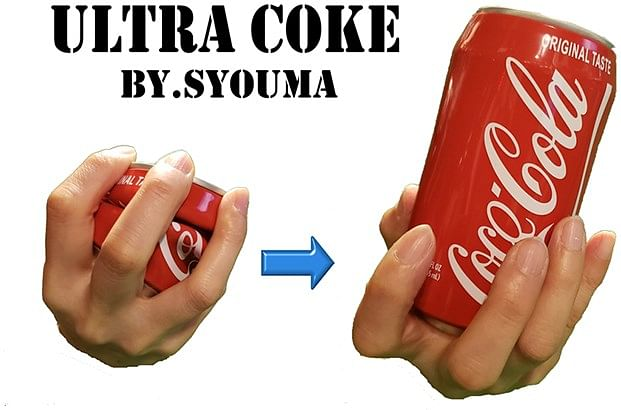can: (407, 6, 619, 334), (85, 156, 230, 295)
